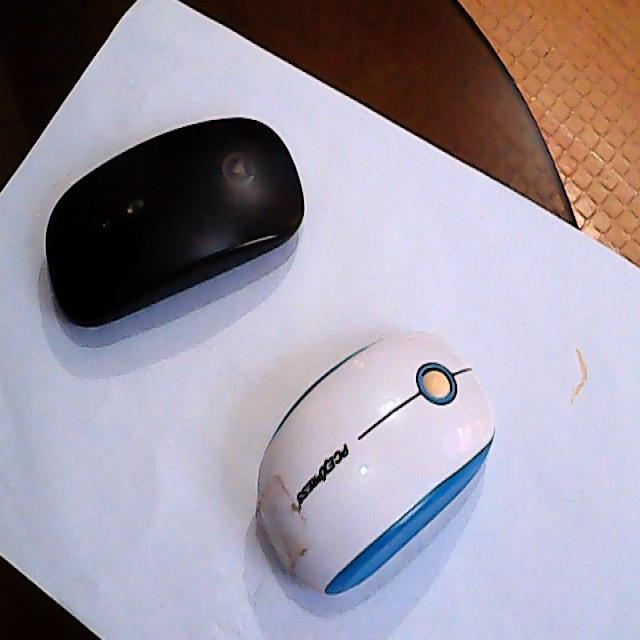mouse: (256, 326, 498, 596), (44, 114, 305, 330)
